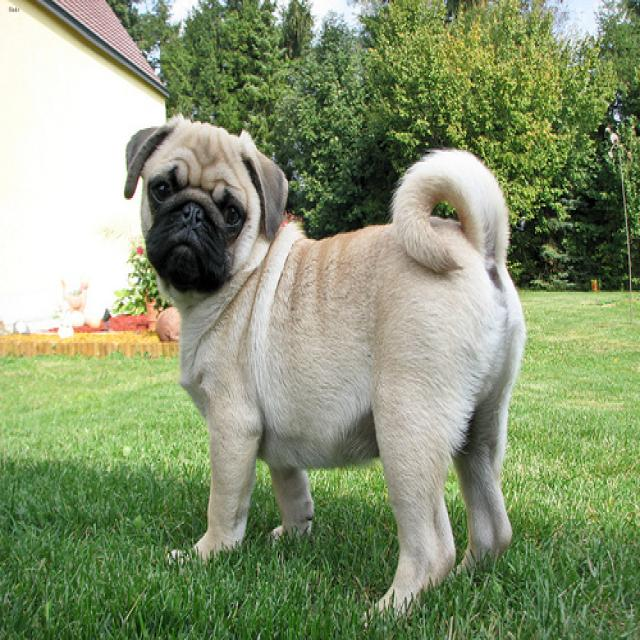dog-pug: (118, 108, 536, 633)
